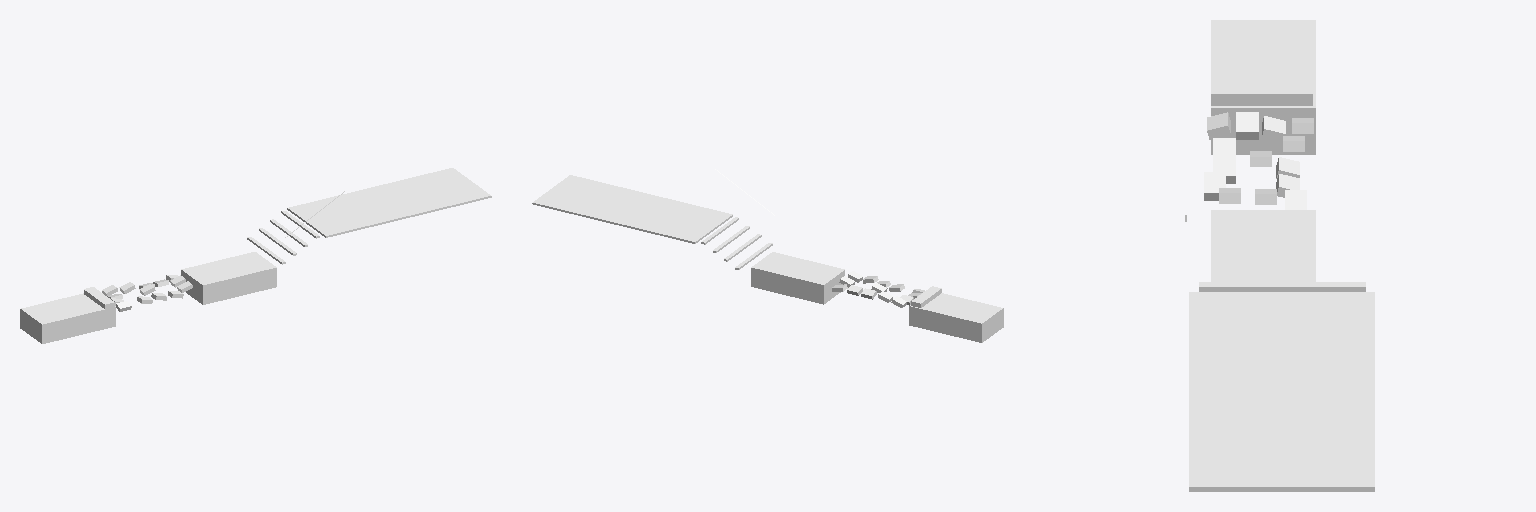
The robot description file, URDF, robot "race_2":
<robot name="race_2">
  <link name="base_link">
    <visual>
      <origin xyz="0 0 0" rpy="0 0 0" />
      <geometry>
        <mesh filename="package://hpp-rbprm-corba/meshes/race_2.stl"/>
      </geometry>
      <material name="white">
        <color rgba="1 1 1 1"/>
      </material>
    </visual>
    <collision>
      <origin xyz="0 0 0" rpy="0 0 0" />
      <geometry>
        <mesh filename="package://hpp-rbprm-corba/meshes/race_2.stl"/>
      </geometry>
    </collision>
  </link>
</robot>

--- Facts derived from the render (not from the file) ---
3 views of the same robot in one strip: view 1: azimuth 30°, elevation 25°; view 2: azimuth 150°, elevation 25°; view 3: azimuth 270°, elevation 25° (orthographic).
Robot: race_2 — 1 links, 0 joints (none); root link base_link; default pose: all joints at 0.
Visible links, largest first — view 1: base_link; view 2: base_link; view 3: base_link.
Boxes of the visible links, <box> form: base_link: <box>20,168,491,343</box>; base_link: <box>532,169,1003,342</box>; base_link: <box>1185,20,1374,491</box>.
Size in the robot's own frame: 11.78 by 1.81 by 2.14 metres.
Meshes: 1 distinct files referenced, 1 mesh visuals loaded (1 binary STL).